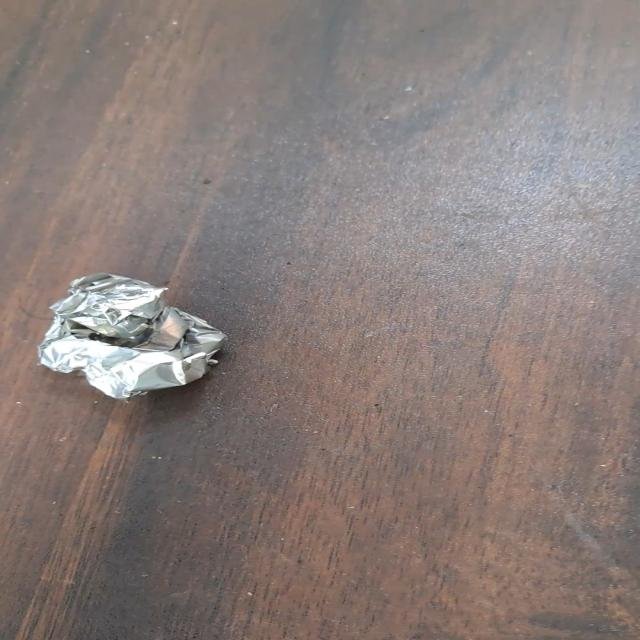Anorganik: (24, 268, 231, 404)
